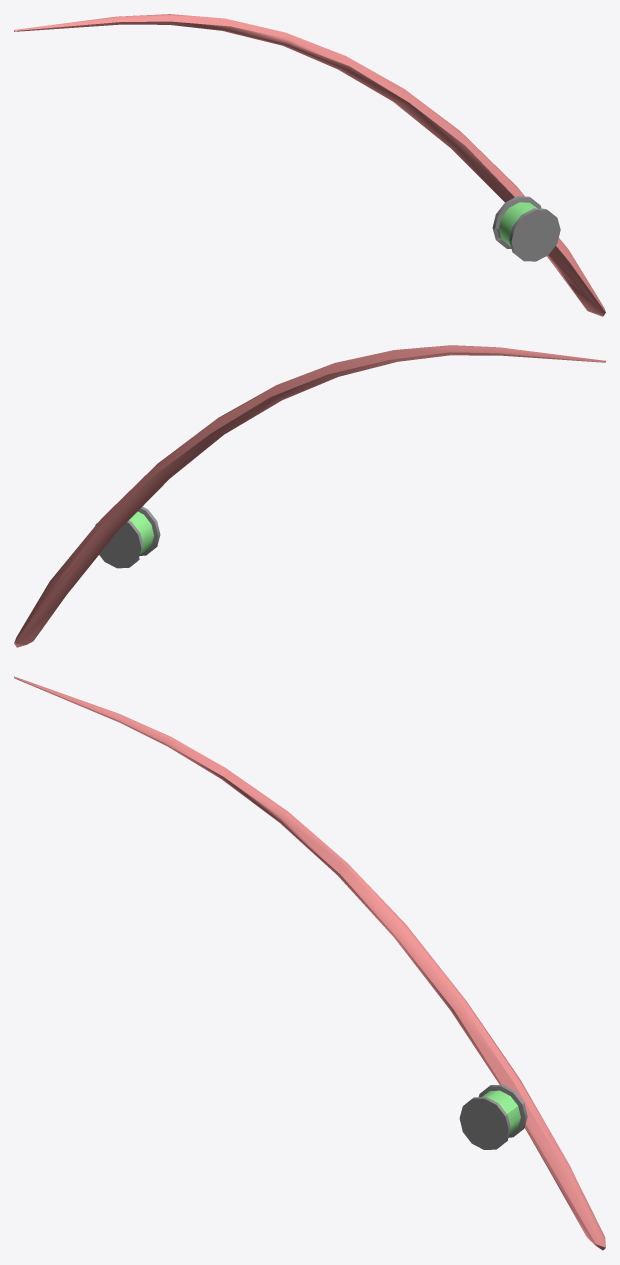
File: FishingRod.fbx
3 renders of one model, top to bottom at view 1: azimuth 30°, elevation 25°; view 2: azimuth 150°, elevation 25°; view 3: azimuth 330°, elevation 25°, orthographic.
Parts seen in each view (by area): view 1: SM_Fishingrod; view 2: SM_Fishingrod; view 3: SM_Fishingrod.
Part boxes in pixels (x1,y1,x2,y2): SM_Fishingrod: (14, 14, 605, 316); SM_Fishingrod: (14, 345, 605, 647); SM_Fishingrod: (14, 676, 605, 1250).
Bounding box in the file's own units: 285 × 198 × 27.04.
